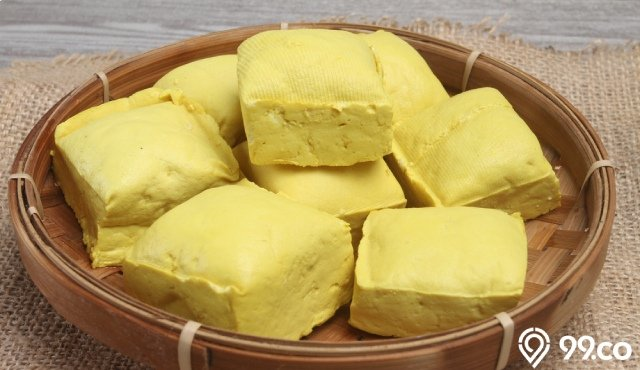Tahu: (147, 195, 347, 347), (339, 213, 535, 325), (218, 30, 389, 151), (369, 115, 548, 211)
